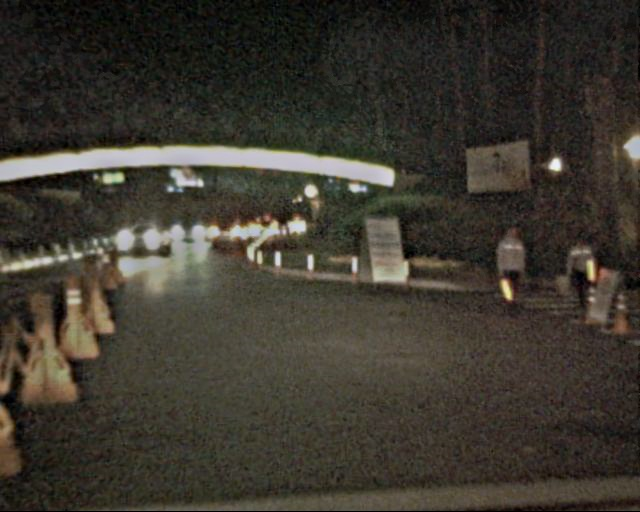person: (490, 223, 531, 315), (561, 235, 599, 314)
